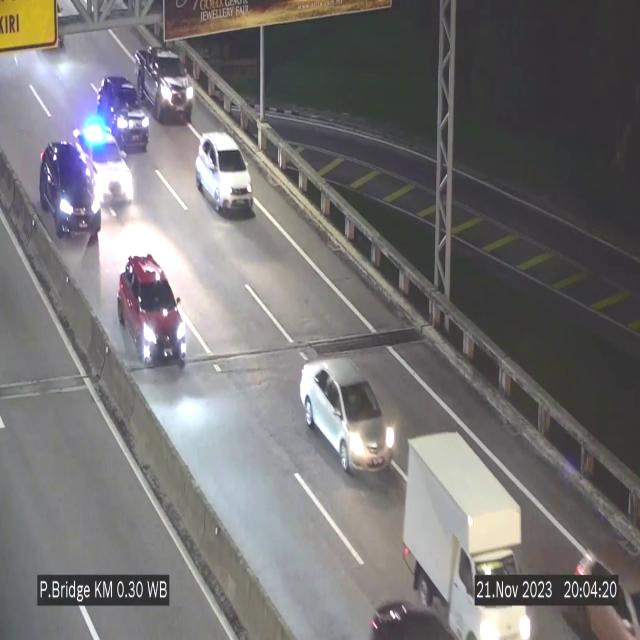Car: (299, 359, 396, 473), (114, 252, 190, 377), (569, 514, 640, 640), (38, 143, 102, 242), (73, 124, 135, 205), (196, 132, 254, 215), (136, 44, 192, 122), (97, 76, 149, 152)
Truck: (402, 429, 535, 640)
